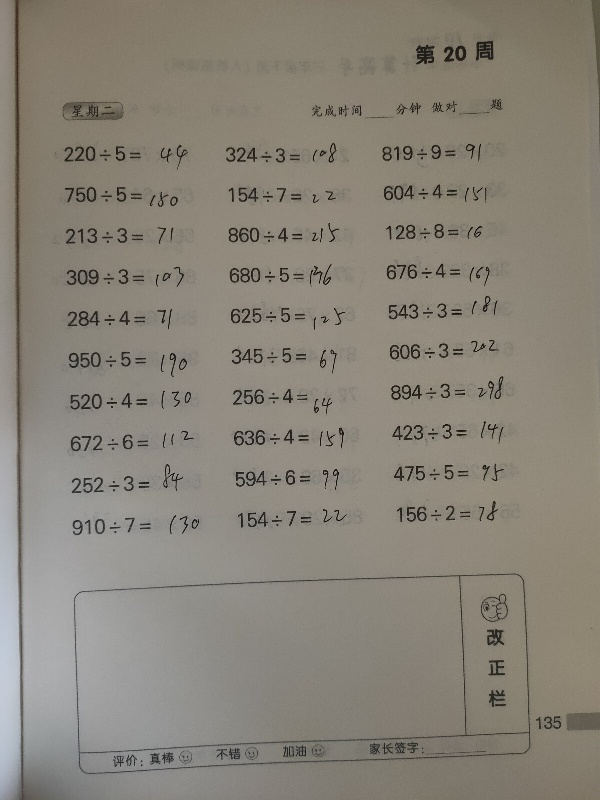equation: (364, 122, 510, 173), (64, 510, 220, 554), (52, 340, 197, 384), (227, 210, 366, 253), (40, 261, 208, 296), (61, 133, 195, 176), (377, 374, 538, 408), (220, 456, 358, 494), (380, 413, 529, 448), (228, 504, 368, 541), (221, 378, 350, 418), (207, 336, 349, 372), (65, 465, 196, 503), (367, 178, 512, 212), (223, 297, 362, 330), (217, 259, 351, 293), (387, 497, 520, 531), (376, 457, 520, 488), (380, 215, 511, 249), (379, 257, 516, 289), (59, 221, 201, 250), (217, 178, 352, 208), (64, 388, 198, 418), (67, 425, 210, 453), (385, 336, 520, 365), (379, 298, 509, 328), (222, 139, 347, 170), (63, 306, 192, 333), (229, 424, 358, 451), (56, 189, 194, 213)
